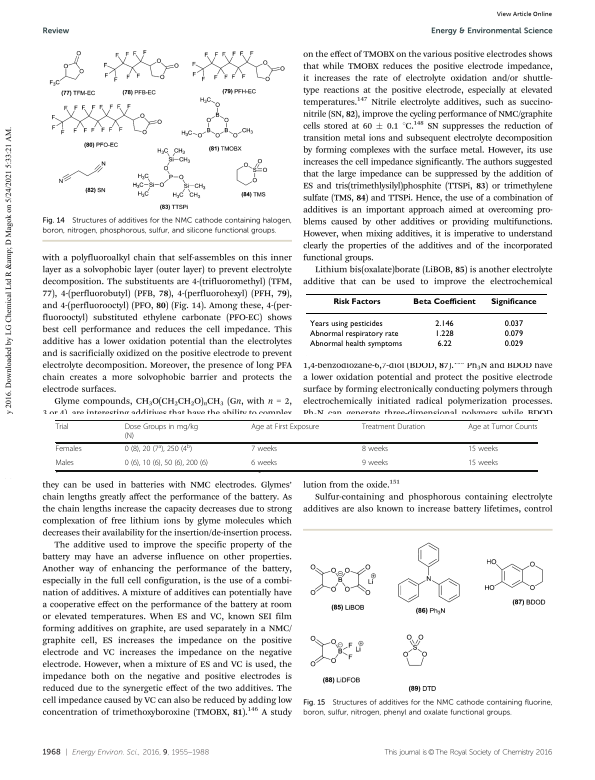borderless: (54, 419, 537, 470), (304, 292, 548, 357)
cell: (124, 423, 199, 441), (309, 339, 403, 349), (309, 329, 399, 339), (124, 459, 209, 469), (124, 443, 193, 455), (309, 319, 383, 328), (467, 423, 538, 432), (250, 423, 320, 432), (361, 423, 426, 432), (412, 297, 476, 306), (332, 297, 381, 306), (490, 297, 537, 306), (467, 445, 499, 455), (467, 459, 499, 469), (250, 445, 278, 455), (361, 445, 389, 455), (250, 459, 278, 469), (361, 459, 389, 469), (55, 445, 82, 455), (54, 459, 75, 469), (503, 329, 524, 339), (503, 339, 524, 349), (434, 329, 454, 339), (503, 319, 524, 328), (434, 319, 454, 328), (436, 339, 452, 349), (55, 423, 69, 432)
